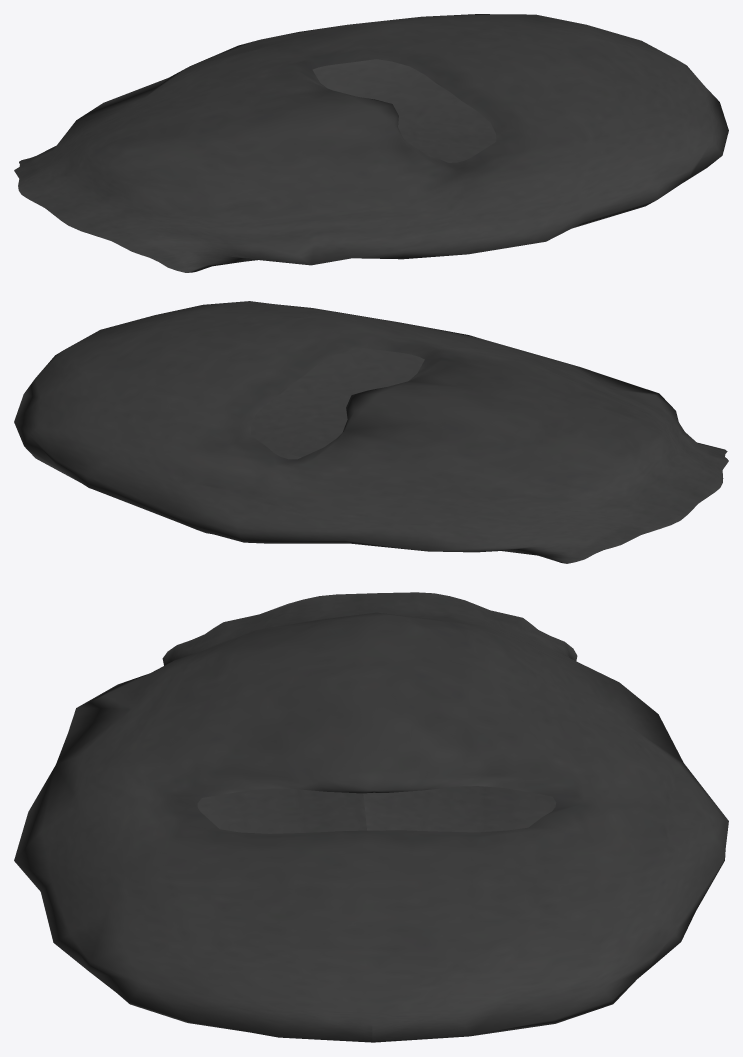
The model's file is GunRunnersBalaclava_Ground.fbx.
3 views of the same model, one above another, from view 1: azimuth 30°, elevation 25°; view 2: azimuth 150°, elevation 25°; view 3: azimuth 270°, elevation 25° (orthographic). The views are drawn at different scales.
Visible parts, largest first — view 1: GunRunner Bala; view 2: GunRunner Bala; view 3: GunRunner Bala.
Boxes of the visible parts, x1,y1,x2,y2 form: GunRunner Bala: [14, 14, 728, 272]; GunRunner Bala: [14, 301, 728, 563]; GunRunner Bala: [14, 592, 728, 1042].
Size of the model in its own units: 0.183 by 0.0224 by 0.1312.
